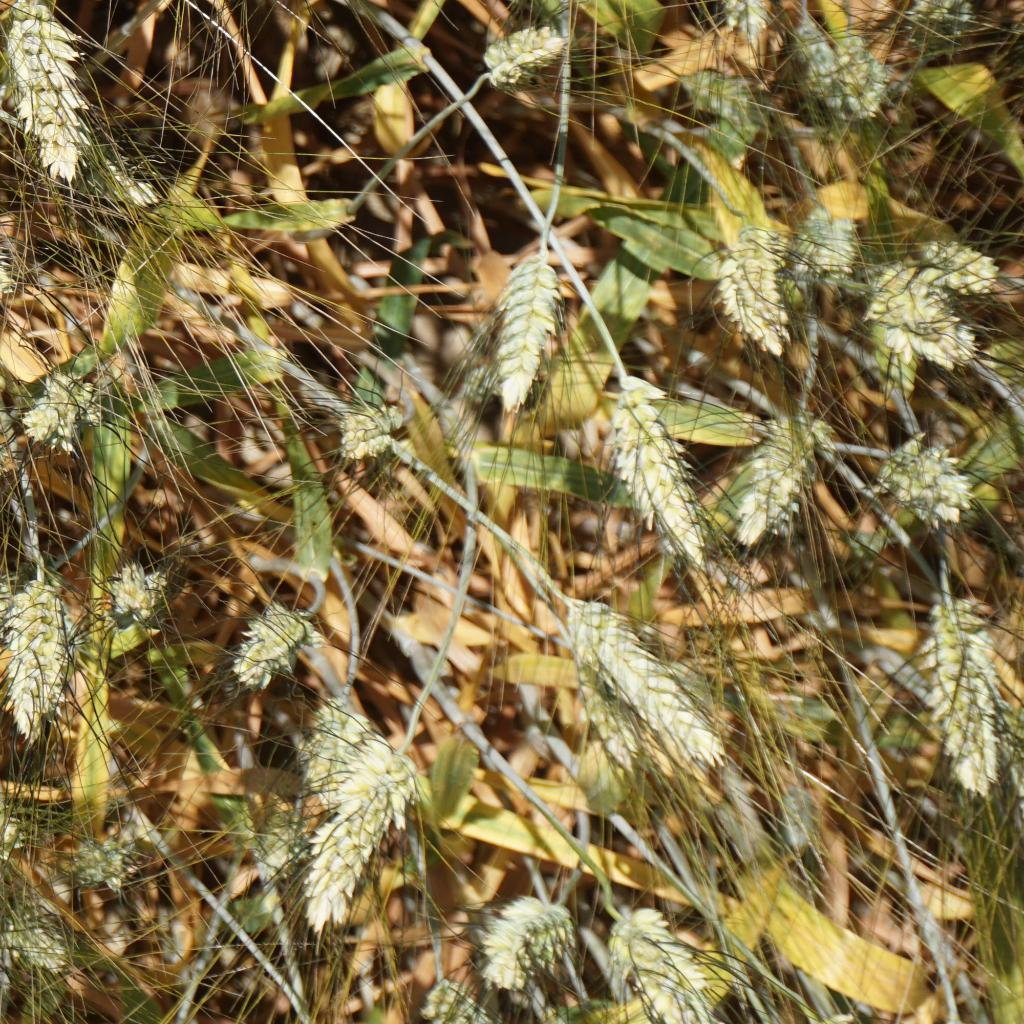0-0: (555, 588, 740, 763), (927, 588, 1012, 809), (309, 750, 405, 929), (0, 0, 96, 179), (612, 377, 700, 553), (0, 577, 88, 750), (476, 240, 561, 419), (608, 909, 708, 1024), (870, 269, 974, 377), (714, 232, 787, 346), (888, 421, 968, 525), (728, 417, 799, 529), (23, 379, 121, 460), (218, 602, 307, 675), (321, 397, 401, 476), (482, 893, 563, 970), (0, 902, 86, 974), (915, 228, 1002, 295), (825, 21, 882, 116), (60, 821, 130, 893), (781, 188, 840, 269), (297, 712, 364, 783), (484, 23, 570, 78), (263, 788, 303, 887), (787, 9, 830, 100), (92, 563, 157, 622), (427, 968, 485, 1024), (913, 0, 974, 43), (698, 0, 770, 35), (0, 236, 27, 313), (0, 785, 23, 860)
